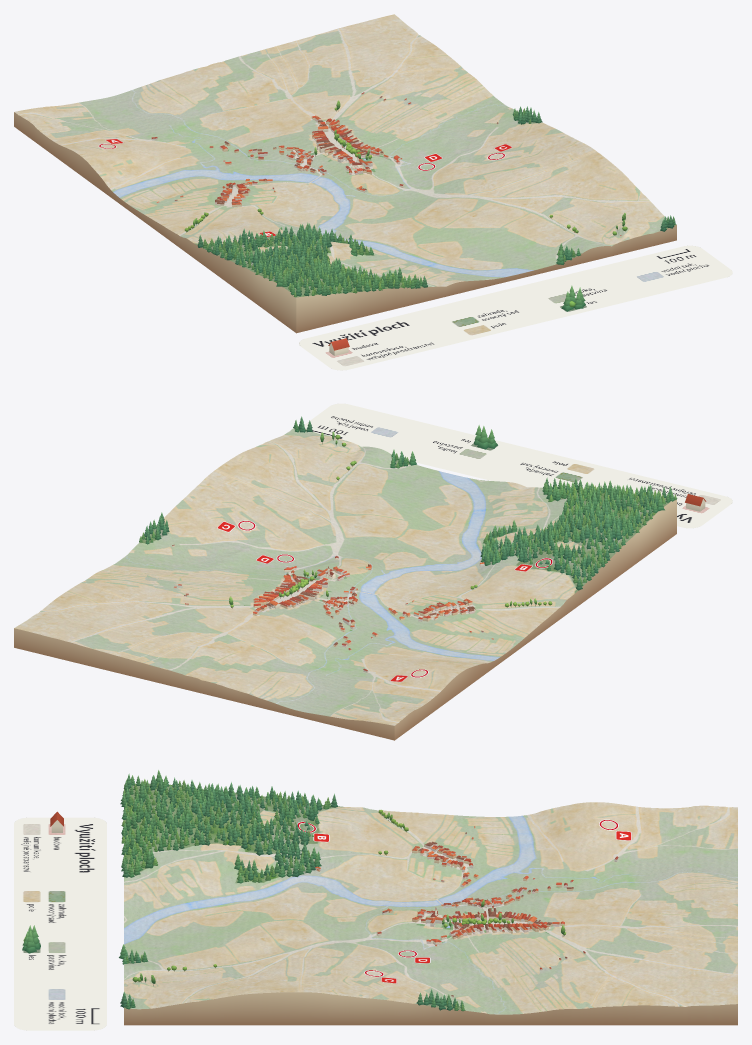
The model's file is Frymburk_sada1_CO.glb.
3 views of the same model, one above another, from view 1: azimuth 30°, elevation 25°; view 2: azimuth 150°, elevation 25°; view 3: azimuth 270°, elevation 25° (orthographic). The views are drawn at different scales.
Parts seen in each view (by area): view 1: DMR_CO, legenda_panel, stromy_CO, budovy_CO, legenda_objekty; view 2: DMR_CO, legenda_panel, stromy_CO, budovy_CO, legenda_objekty; view 3: DMR_CO, legenda_panel, stromy_CO, budovy_CO, legenda_objekty.
Boxes of the visible parts, x1,y1,x2,y2 form: DMR_CO: (14, 14, 676, 333); legenda_panel: (299, 245, 732, 370); stromy_CO: (184, 100, 675, 297); budovy_CO: (151, 92, 621, 236); legenda_objekty: (328, 285, 585, 355); DMR_CO: (14, 426, 676, 740); legenda_panel: (304, 403, 732, 528); stromy_CO: (139, 416, 677, 608); budovy_CO: (172, 443, 494, 672); legenda_objekty: (474, 425, 706, 511); DMR_CO: (124, 783, 737, 1025); legenda_panel: (14, 817, 106, 1030); stromy_CO: (119, 770, 565, 1011); budovy_CO: (315, 826, 618, 997); legenda_objekty: (22, 811, 63, 953).
Size of the model in its own units: 1490 by 177 by 2140.
12 materials, 6 textured.
